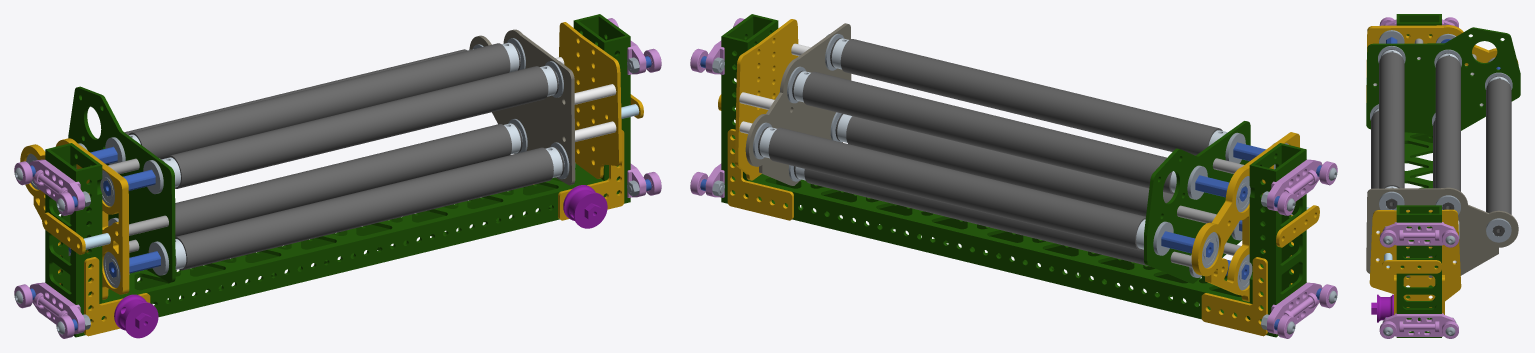
3 views of the same model, side by side, from view 1: azimuth 30°, elevation 25°; view 2: azimuth 150°, elevation 25°; view 3: azimuth 270°, elevation 25° (orthographic). The views are drawn at different scales.
Parts seen in each view (by area): view 1: Small Trap Roll Sock (×5), Inner Stage Bottom, Plate Trapper Right, Inner Side Right, Left Mount Trapper, Left Plate Trapper, Mount Trapper Right, Inner Stage Bracket (×2), Dyneema Tensioning CAM ELEV-PULLEY-003 (×2), Inner Side Tube Left, Sliding Bearing Block Plate - SLIDE-001 (×2), Trap Short Shaft (×2) (+4 smaller); view 2: Small Trap Roll Sock (×5), Inner Stage Bottom, Inner Side Right, Plate Trapper Right, Inner Stage Bracket (×2), Left Plate Trapper, Left Mount Trapper, Mount Trapper Right, Inner Side Tube Left, Sliding Bearing Block Plate - SLIDE-001 (×2), Trap Short Shaft (×2), Trap Anchor Gusset (+1 smaller); view 3: Small Trap Roll Sock (×5), Plate Trapper Right, Left Plate Trapper, Left Mount Trapper, Inner Side Tube Left, Sliding Bearing Block Plate - SLIDE-001 (×2), .5" Hex ID 1.125" OD Flanged Bearing (217-2734) (×7), Mount Trapper Right, Inner Stage Bottom, Trap Anchor Gusset, Inner Side Right, Dyneema Tensioning CAM ELEV-PULLEY-003 (+3 smaller).
Boxes of the visible parts, <box> form: Small Trap Roll Sock (×5): <box>124,43,553,270</box>; Inner Stage Bottom: <box>102,163,604,319</box>; Plate Trapper Right: <box>68,86,175,282</box>; Inner Side Right: <box>45,143,102,337</box>; Left Mount Trapper: <box>559,22,622,178</box>; Left Plate Trapper: <box>469,29,575,185</box>; Mount Trapper Right: <box>20,138,129,299</box>; Inner Stage Bracket (×2): <box>84,130,624,336</box>; Dyneema Tensioning CAM ELEV-PULLEY-003 (×2): <box>114,185,607,338</box>; Inner Side Tube Left: <box>573,14,630,203</box>; Sliding Bearing Block Plate - SLIDE-001 (×2): <box>29,159,84,334</box>; Trap Short Shaft (×2): <box>103,169,160,277</box>; Small Trap Roll Sock (×5): <box>768,39,1222,266</box>; Inner Stage Bottom: <box>747,174,1249,319</box>; Inner Side Right: <box>1249,143,1306,337</box>; Plate Trapper Right: <box>1144,121,1250,283</box>; Inner Stage Bracket (×2): <box>727,129,1267,336</box>; Left Plate Trapper: <box>745,23,851,185</box>; Left Mount Trapper: <box>735,19,798,180</box>; Mount Trapper Right: <box>1191,132,1299,301</box>; Inner Side Tube Left: <box>721,14,778,203</box>; Sliding Bearing Block Plate - SLIDE-001 (×2): <box>1267,159,1322,334</box>; Trap Short Shaft (×2): <box>1161,175,1247,257</box>; Trap Anchor Gusset: <box>1276,205,1319,247</box>; Small Trap Roll Sock (×5): <box>1371,52,1511,214</box>; Plate Trapper Right: <box>1366,27,1520,134</box>; Left Plate Trapper: <box>1366,187,1518,277</box>; Left Mount Trapper: <box>1369,209,1461,307</box>; Inner Side Tube Left: <box>1396,205,1441,337</box>; Sliding Bearing Block Plate - SLIDE-001 (×2): <box>1383,222,1455,336</box>; .5" Hex ID 1.125" OD Flanged Bearing (217-2734) (×7): <box>1378,30,1512,242</box>; Mount Trapper Right: <box>1366,25,1518,102</box>; Inner Stage Bottom: <box>1404,132,1432,308</box>; Trap Anchor Gusset: <box>1382,260,1441,273</box>; Inner Side Right: <box>1396,14,1441,143</box>; Dyneema Tensioning CAM ELEV-PULLEY-003: <box>1371,294,1393,322</box>.
Bounding box in the file's own units: 0.5782 × 0.173 × 0.1733.
